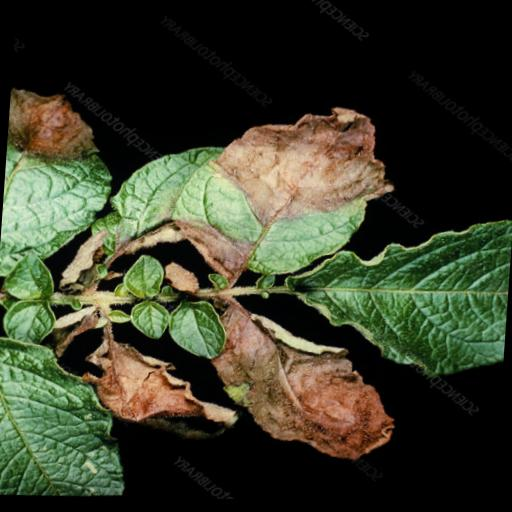Late Blight: (164, 91, 408, 293), (195, 288, 414, 473), (0, 79, 125, 287), (76, 324, 242, 449)
